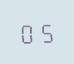five: (37, 19, 54, 43)
zero: (19, 20, 36, 44)
